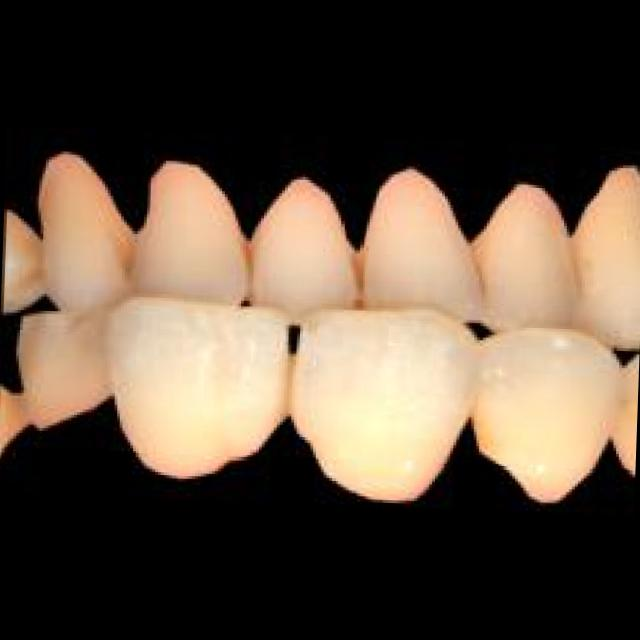1: (290, 308, 472, 519), (106, 301, 286, 490), (467, 326, 617, 524), (355, 164, 477, 314), (132, 159, 251, 306), (476, 182, 576, 338), (34, 156, 122, 316), (252, 175, 351, 315), (7, 315, 106, 438), (579, 163, 640, 348), (0, 203, 47, 316)
karies: (18, 224, 46, 296), (4, 392, 34, 438), (118, 230, 140, 282), (235, 240, 262, 281), (464, 422, 488, 463), (350, 256, 368, 294), (470, 248, 483, 292)
